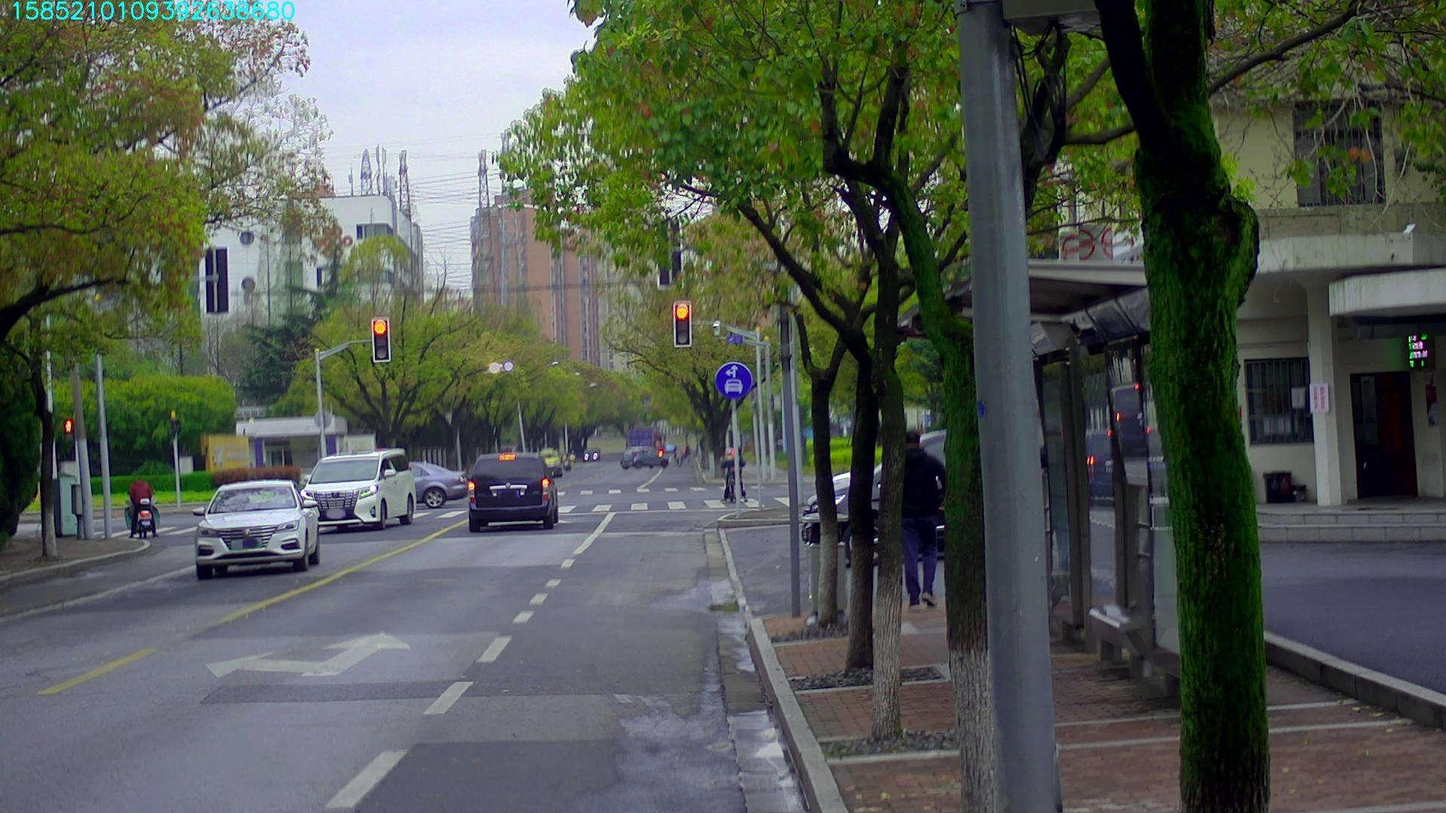red: (371, 317, 389, 361), (673, 301, 690, 346)
